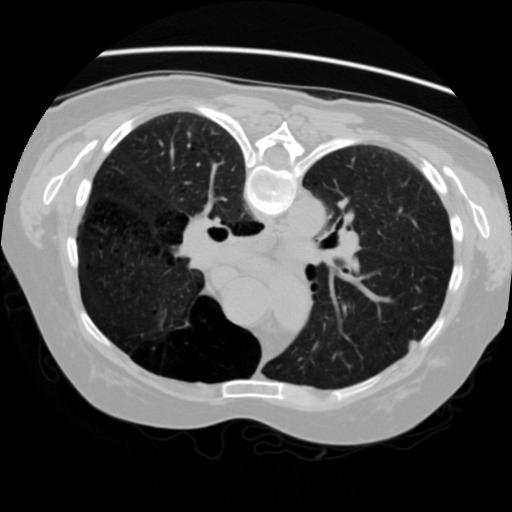nodule: (403, 338, 418, 353)
